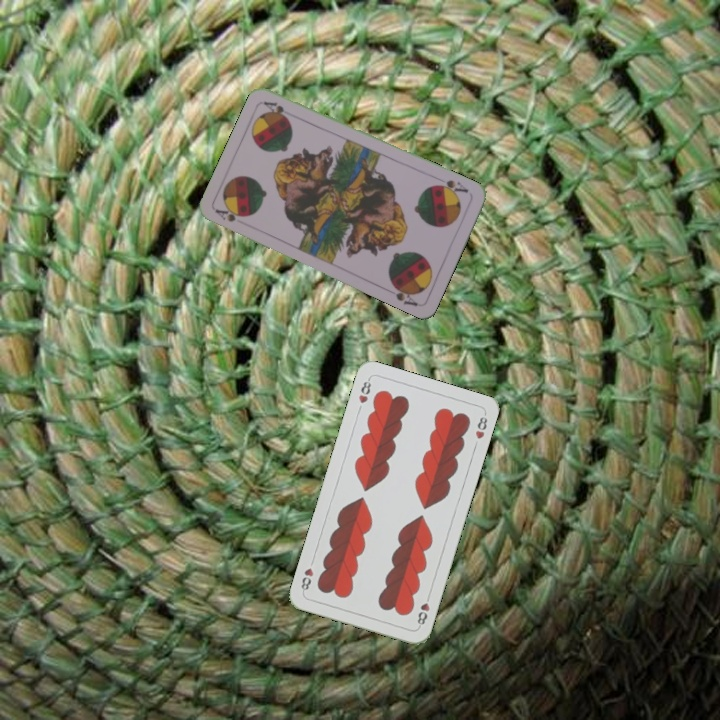H8: (413, 590, 433, 630), (354, 374, 374, 406)
SA: (431, 176, 471, 198), (212, 203, 249, 224)
